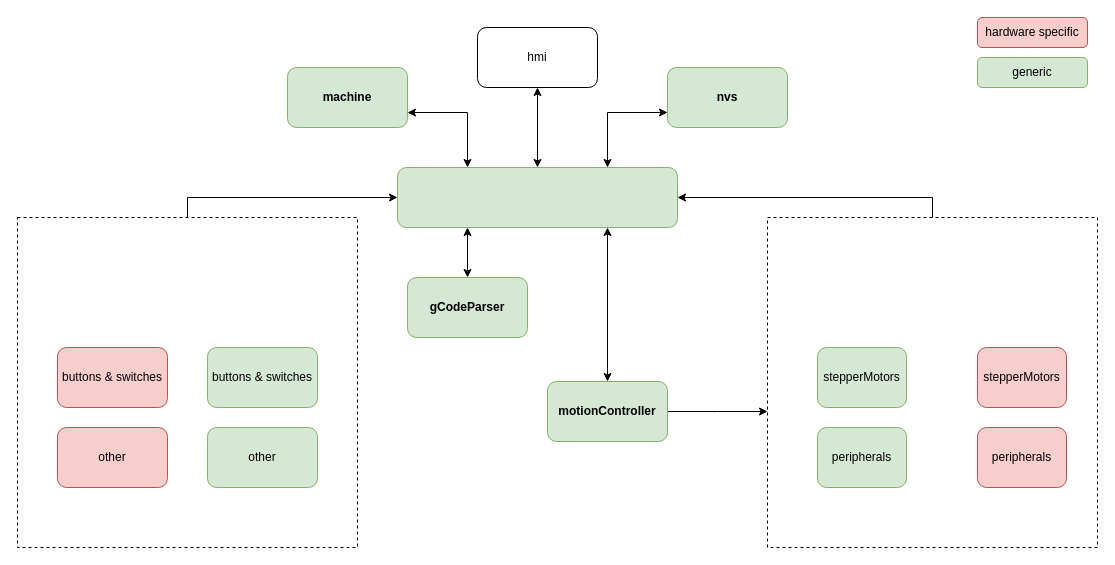
This 1115x565 diagram has some shape labels left out. Each missing label, with the box of its shape:
inputs: (16, 216, 358, 548)
mainController: (396, 166, 678, 228)
outputs: (766, 216, 1098, 548)
